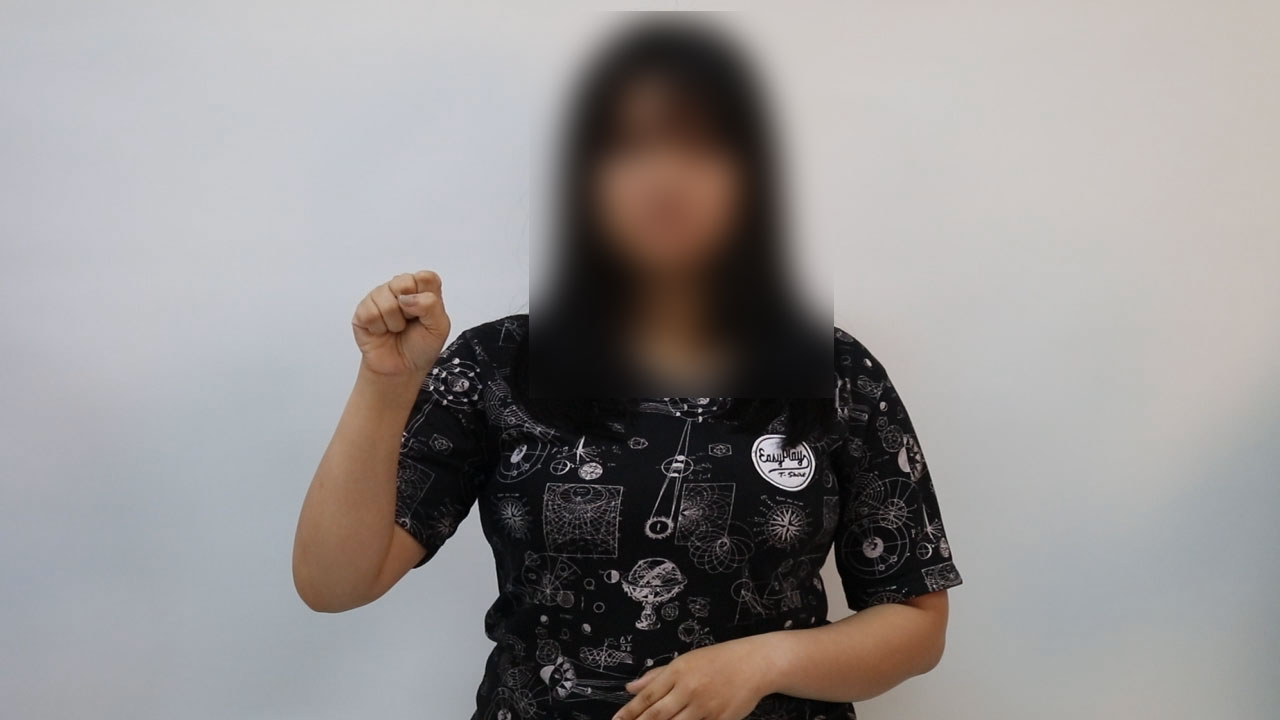sor: (336, 256, 462, 390)
